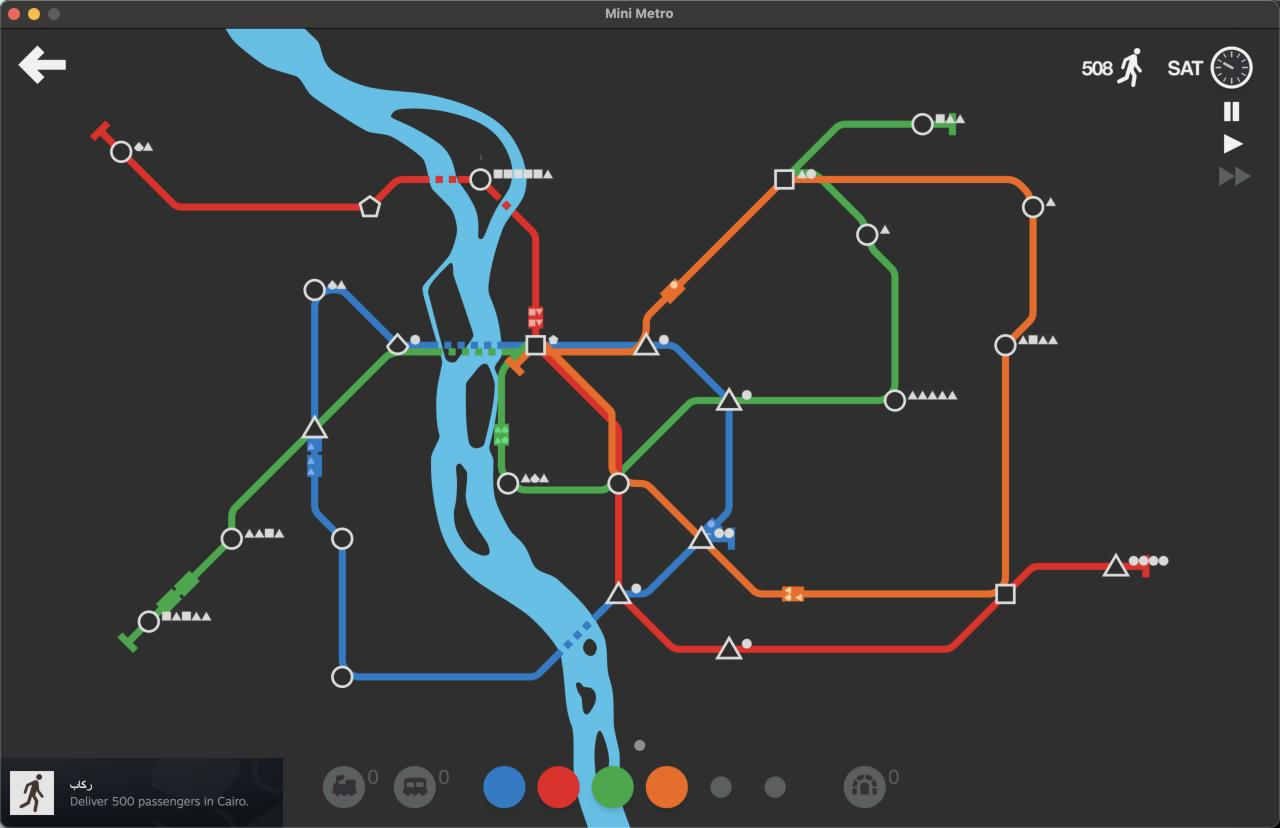CIRCLE: (855, 223, 880, 247), (1021, 195, 1045, 219), (330, 527, 354, 551), (496, 471, 519, 496), (883, 388, 906, 413), (330, 665, 353, 689), (303, 278, 326, 302), (137, 609, 160, 633), (607, 471, 630, 495), (911, 112, 934, 136), (994, 334, 1017, 358), (110, 140, 133, 163), (469, 168, 492, 191), (220, 527, 243, 550)
PENTAGON: (359, 195, 381, 218)
SQUARE: (773, 168, 795, 191), (525, 334, 547, 356), (996, 583, 1017, 605)
TRIANGLE: (715, 386, 744, 412), (715, 635, 744, 661), (688, 523, 715, 549), (1102, 552, 1130, 577), (301, 414, 329, 438), (633, 332, 661, 356), (605, 581, 632, 605)
WEDGE: (385, 331, 409, 355)
